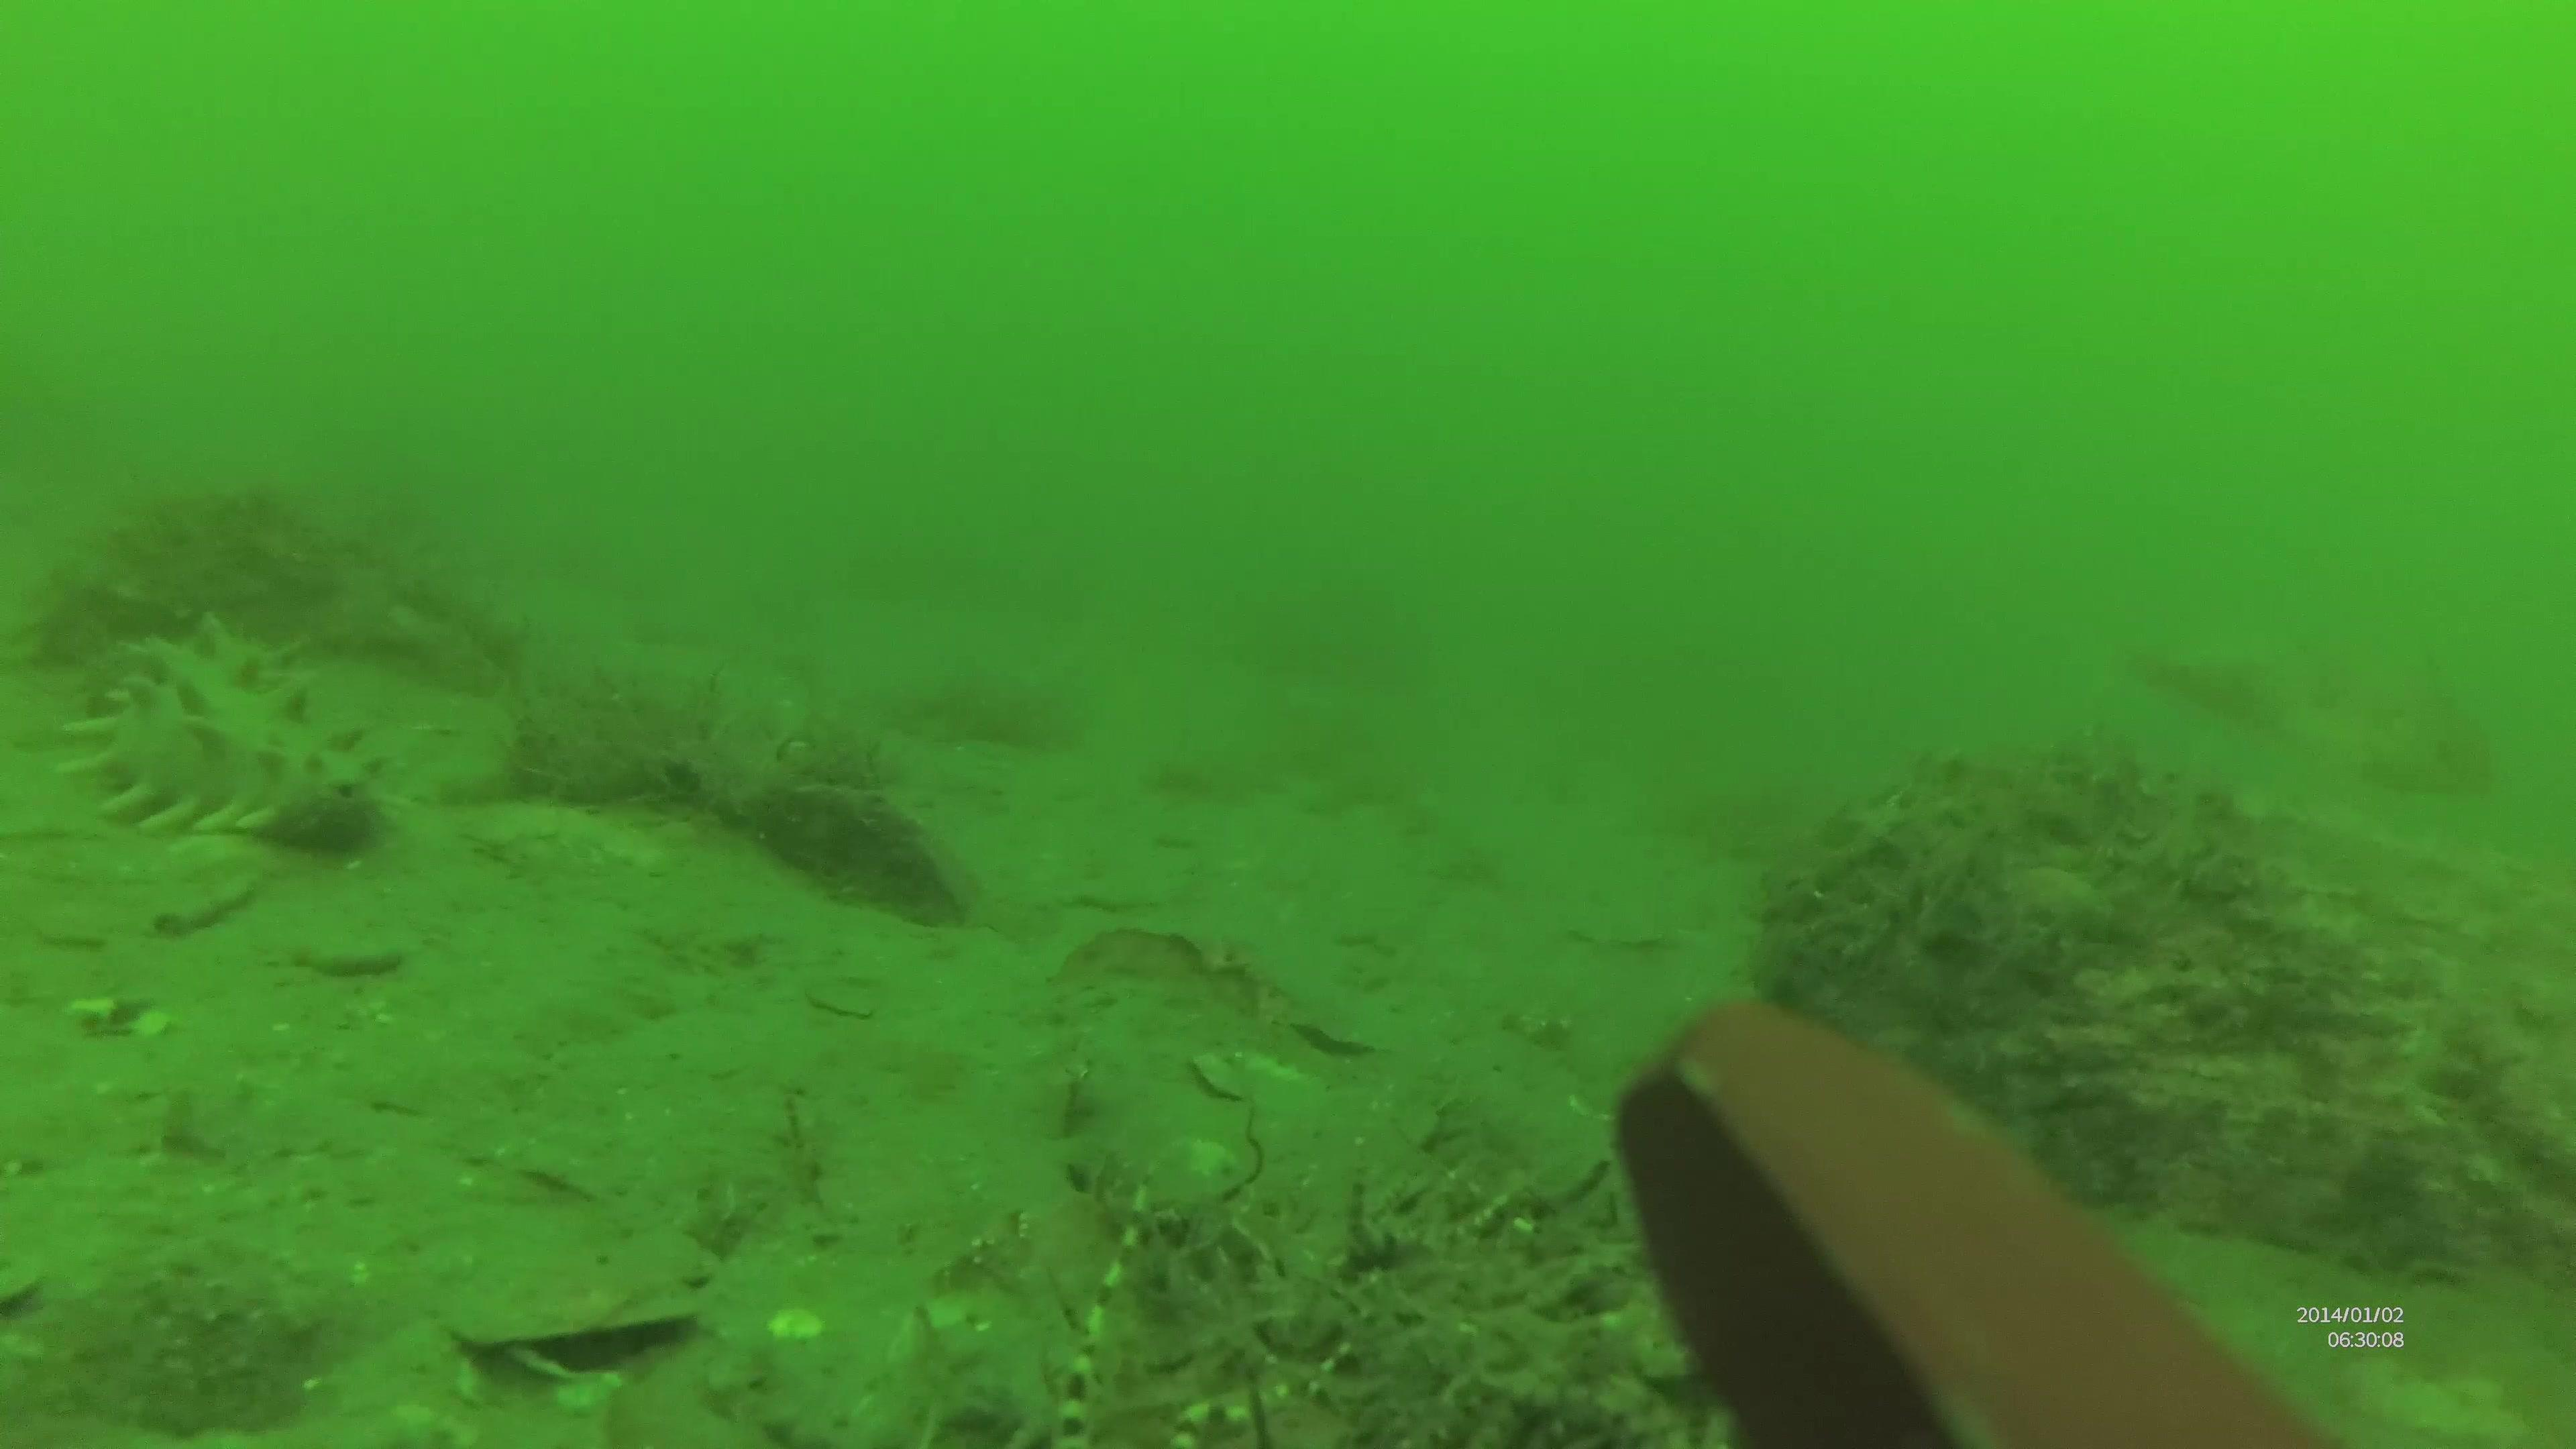holothurian: (62, 614, 391, 855)
